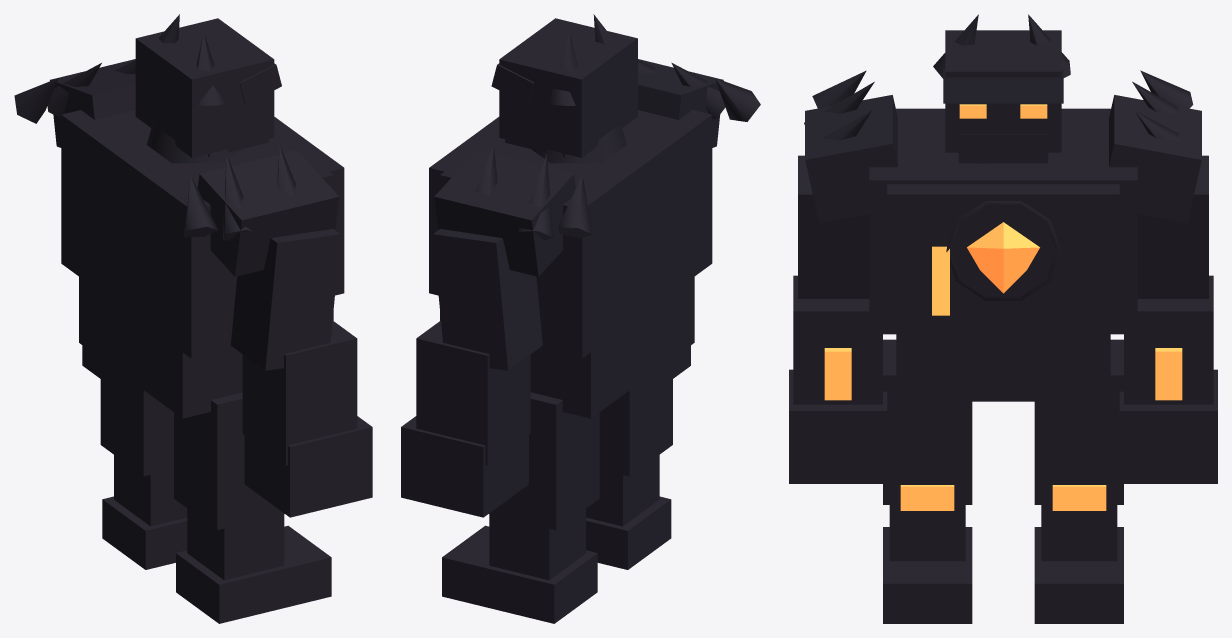
The model's file is enemy_boss.glb.
3 views of the same model, side by side, from view 1: azimuth 30°, elevation 25°; view 2: azimuth 150°, elevation 25°; view 3: azimuth 270°, elevation 25° (orthographic). The views are drawn at different scales.
Visible parts, largest first — view 1: torso, head, arm_l_upper, arm_l_lower, hips, pauldron_l, thigh_l, fist_l, foot_l, thigh_r, shin_l, foot_r (+11 smaller); view 2: torso, head, arm_r_upper, arm_r_lower, hips, pauldron_r, thigh_r, fist_r, foot_r, thigh_l, shin_r, foot_l (+11 smaller); view 3: chest_plate, torso, hips, thigh_l, thigh_r, head, pauldron_l, pauldron_r, fist_l, fist_r, arm_l_lower, arm_r_lower (+17 smaller).
Part boxes in pixels (x1,y1,x2,y2): torso: [61, 110, 333, 358]; head: [135, 18, 274, 157]; arm_l_upper: [230, 229, 340, 370]; arm_l_lower: [242, 321, 357, 465]; hips: [79, 277, 242, 418]; pauldron_l: [197, 150, 339, 276]; thigh_l: [174, 392, 284, 530]; fist_l: [244, 416, 372, 517]; foot_l: [176, 525, 331, 623]; thigh_r: [100, 359, 173, 476]; shin_l: [187, 508, 284, 580]; foot_r: [102, 496, 187, 569]; torso: [440, 110, 712, 358]; head: [499, 18, 637, 157]; arm_r_upper: [433, 229, 542, 370]; arm_r_lower: [416, 320, 530, 465]; hips: [530, 277, 694, 418]; pauldron_r: [434, 150, 575, 276]; thigh_r: [489, 392, 599, 529]; fist_r: [401, 416, 528, 517]; foot_r: [442, 525, 597, 623]; thigh_l: [599, 359, 672, 476]; shin_r: [489, 509, 585, 580]; foot_l: [586, 496, 671, 569]; chest_plate: [887, 184, 1119, 323]; torso: [869, 108, 1137, 334]; hips: [896, 334, 1110, 401]; thigh_l: [883, 339, 972, 504]; thigh_r: [1034, 339, 1123, 504]; head: [945, 30, 1061, 152]; pauldron_l: [805, 95, 897, 223]; pauldron_r: [1109, 95, 1201, 223]; fist_l: [789, 369, 887, 483]; fist_r: [1119, 369, 1217, 483]; arm_l_lower: [793, 275, 882, 404]; arm_r_lower: [1124, 275, 1213, 404].
Size of the model in its own units: 0.2904 by 0.7025 by 0.48.
